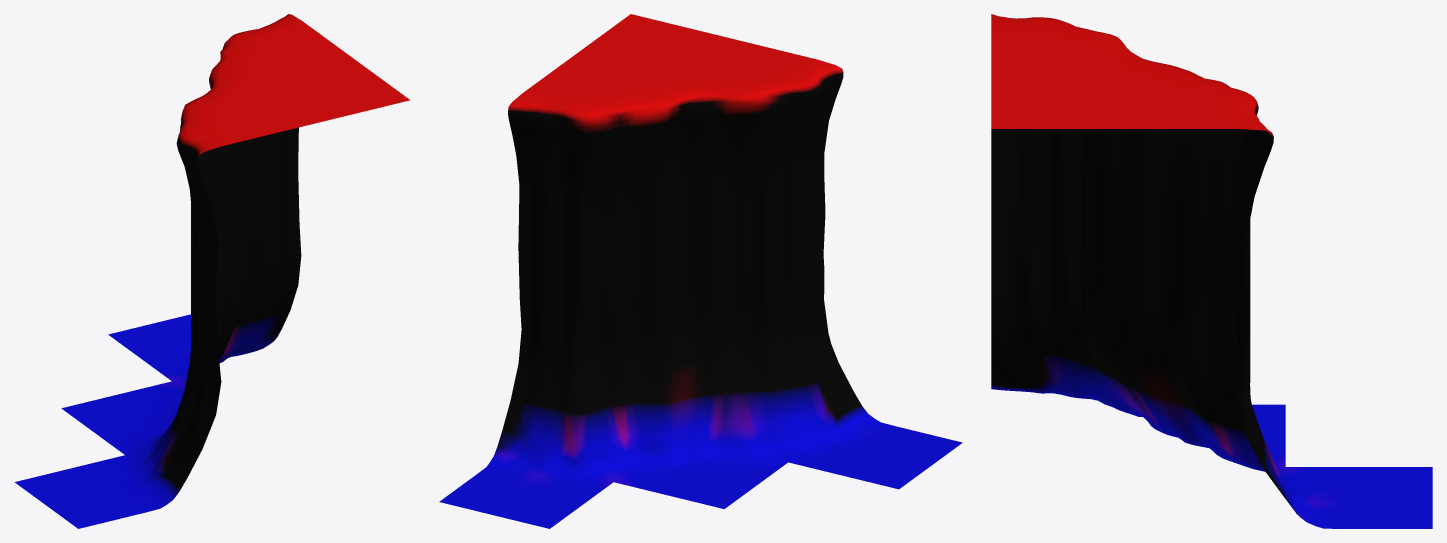
Rendered from GroundCliff03A 3M for Water Foreground.fbx.
3 renders of one model, left to right at view 1: azimuth 30°, elevation 25°; view 2: azimuth 150°, elevation 25°; view 3: azimuth 270°, elevation 25°, orthographic. The views are drawn at different scales.
Visible parts, largest first — view 1: GroundCliff03A 3M for Water Foreground; view 2: GroundCliff03A 3M for Water Foreground; view 3: GroundCliff03A 3M for Water Foreground.
Boxes of the visible parts, x1=… form: GroundCliff03A 3M for Water Foreground: x1=14, y1=14, x2=409, y2=528; GroundCliff03A 3M for Water Foreground: x1=439, y1=14, x2=962, y2=528; GroundCliff03A 3M for Water Foreground: x1=991, y1=14, x2=1432, y2=528.
Size of the model in its own units: 3 by 3 by 3.
